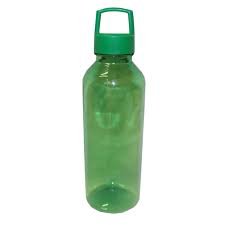bottle: (80, 5, 149, 216)
